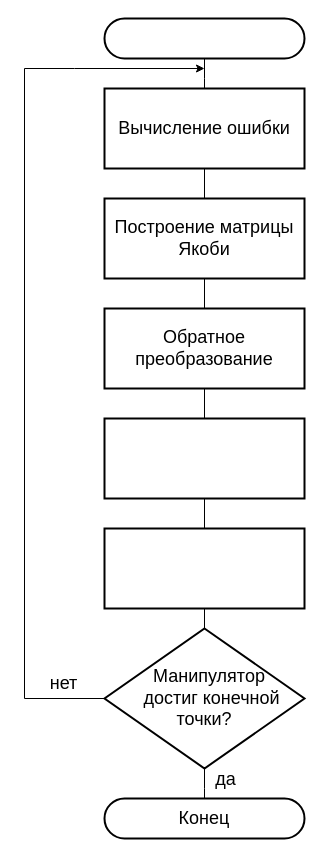
Image size: 323x856. Some labels were removed from this diagram. The centre of each missing label's shape, as x and y in pixels:
"Начало" goes at (204,38).
"Обновление углов суставов" goes at (204,458).
"Преобразование в кватернионы" goes at (204,568).
